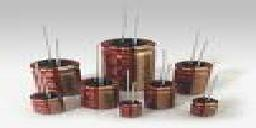Electrolytic Capacitor: (96, 6, 165, 85), (19, 23, 82, 93), (174, 29, 214, 84), (28, 79, 69, 127), (192, 78, 225, 125), (119, 67, 143, 123)
